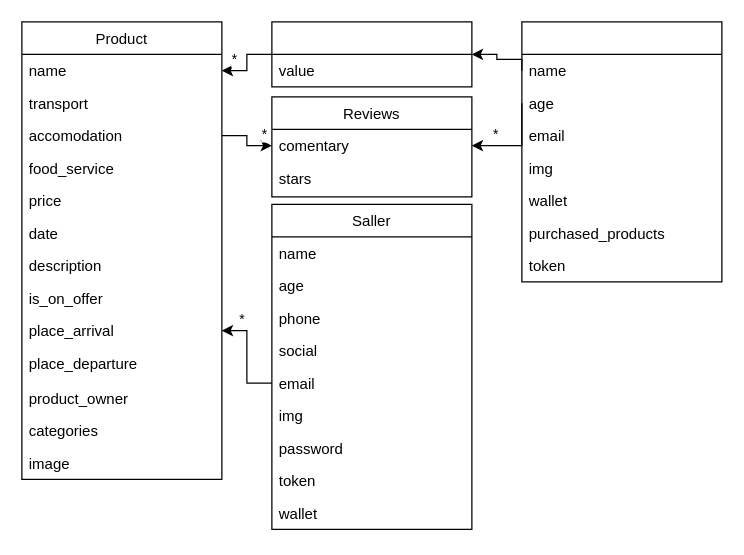
The diagram is 744 pixels wide and 555 high, and some of its shapes have lost their labels. Each missing label, with the box of its shape:
Cart: (271, 21, 472, 87)
Client: (521, 21, 722, 282)
